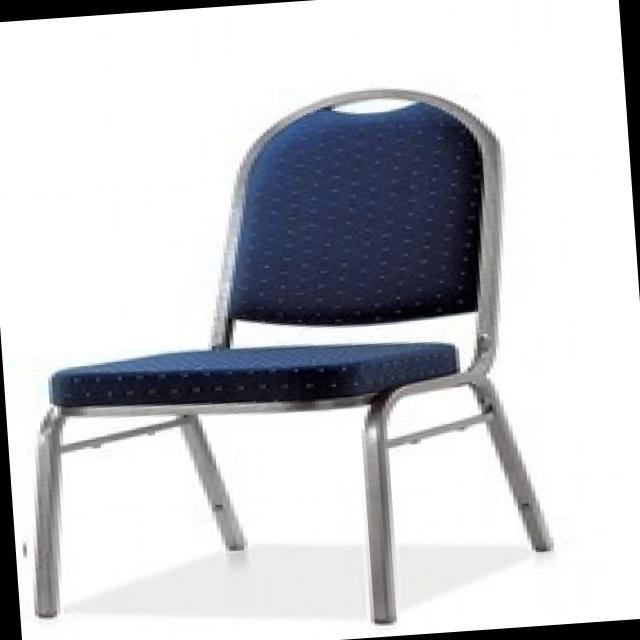Chair: (0, 74, 565, 640)
